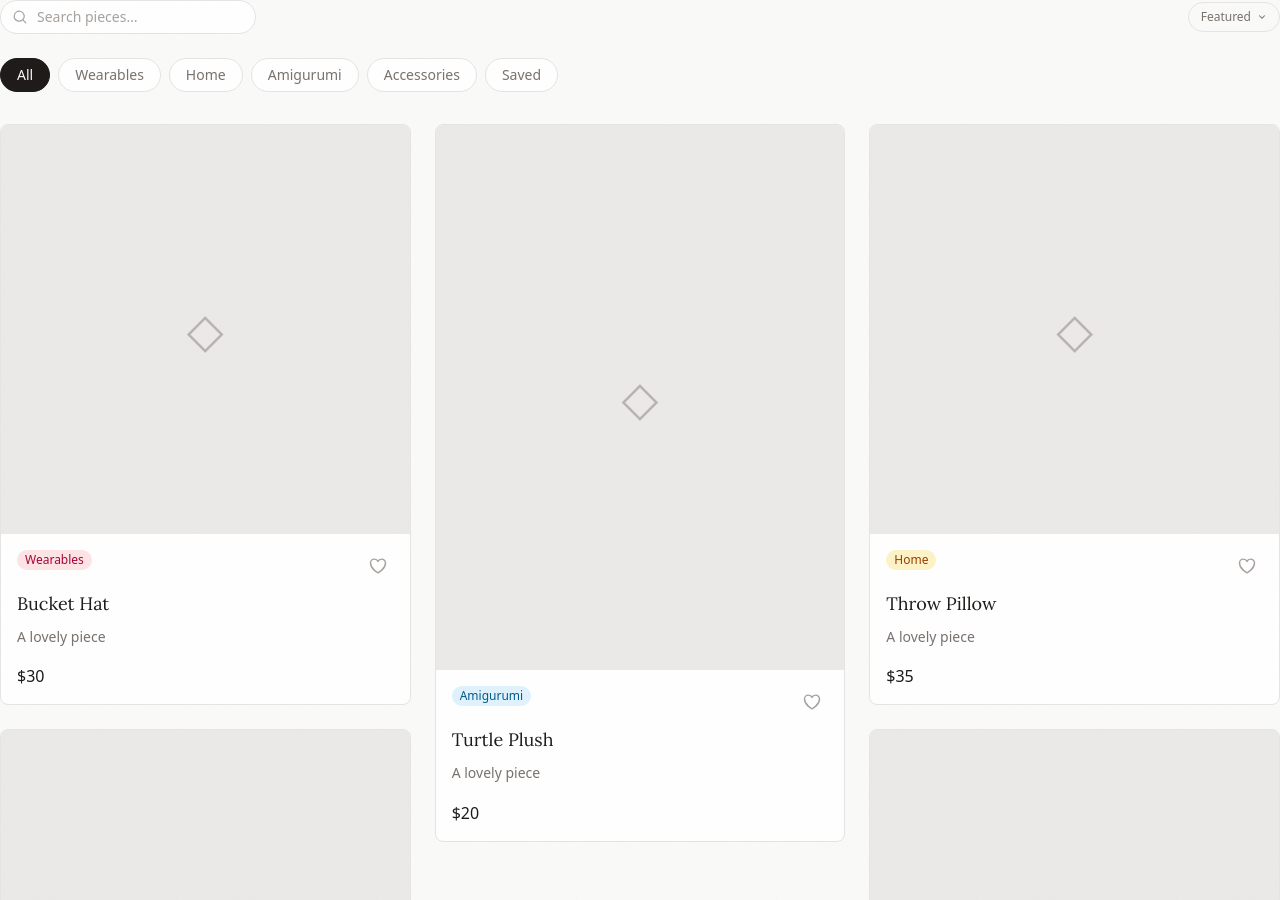
Test: Gallery — category filter › Amigurumi filter shows only amigurumi
The width and height of the screenshot is (1280, 900).
Click the button "Amigurumi" at [305, 75], box x1=251 y1=58 x2=359 y2=92
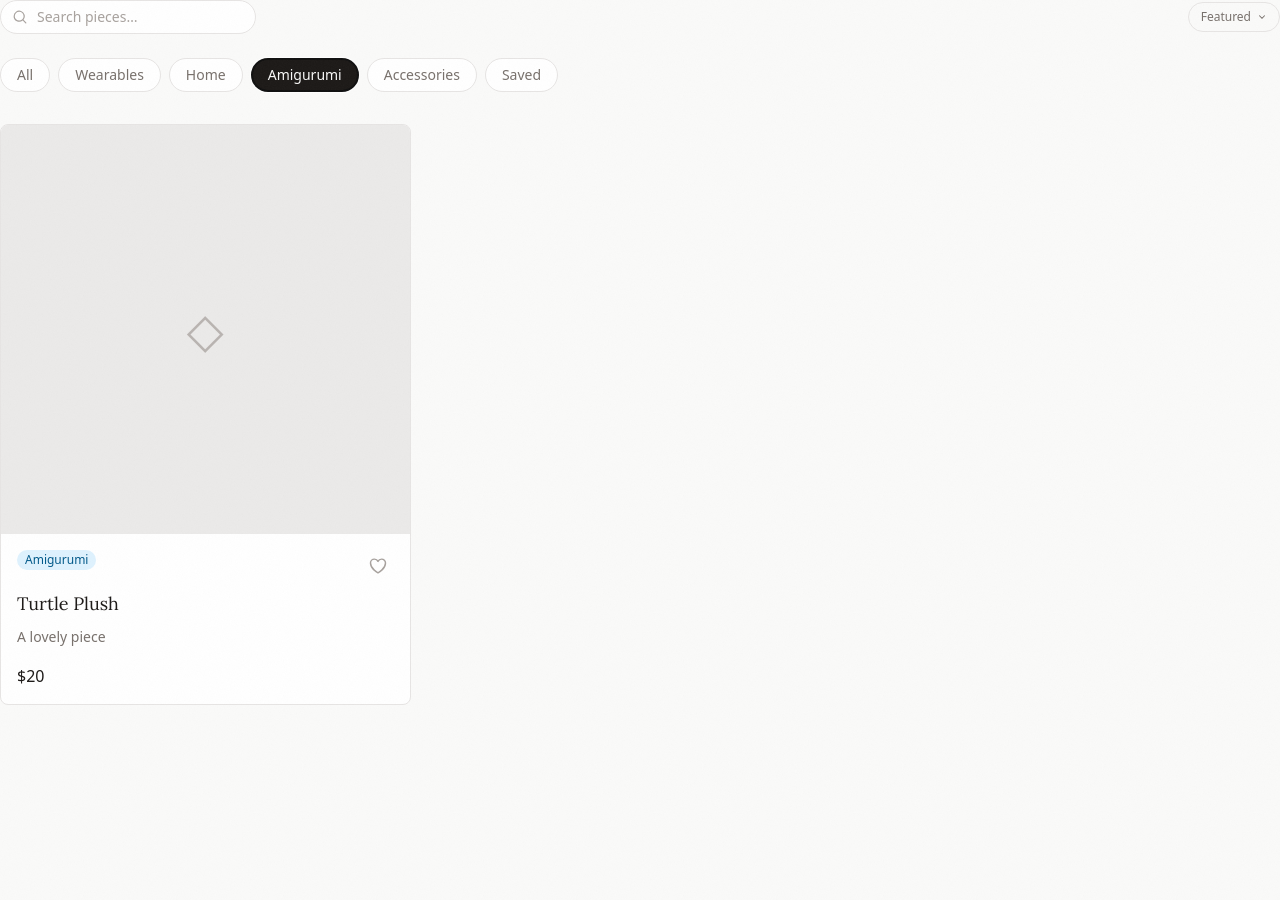
Expected: the heading "Turtle Plush" is shown, x1=17 y1=592 x2=119 y2=615
Expected: the link "Bucket Hat" is gone
